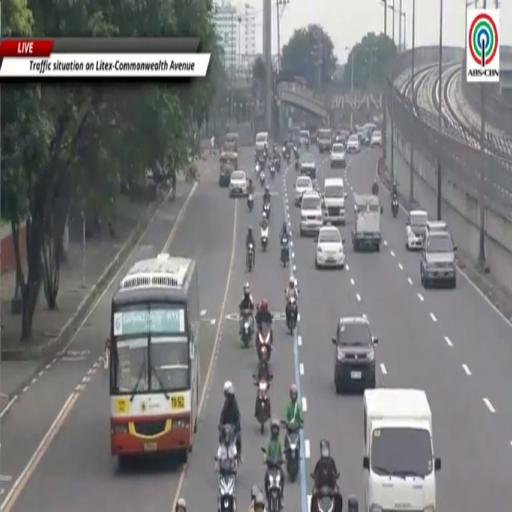bus: (109, 253, 200, 463)
car: (332, 316, 377, 393), (420, 232, 456, 289), (315, 226, 345, 269), (300, 191, 323, 236), (405, 209, 428, 251), (295, 176, 313, 205), (229, 170, 248, 197), (300, 153, 316, 180), (330, 143, 346, 168), (317, 128, 332, 153), (426, 221, 447, 235), (255, 132, 269, 152), (346, 135, 360, 153), (299, 130, 310, 146), (370, 131, 381, 147)
jeepney: (219, 152, 237, 186), (224, 133, 238, 152)
motorcycle: (262, 447, 283, 511), (282, 421, 301, 482), (218, 459, 236, 511), (255, 380, 270, 434), (311, 487, 342, 511), (256, 323, 272, 361), (316, 487, 335, 511), (241, 310, 253, 347), (286, 296, 297, 333), (280, 238, 289, 267), (246, 244, 254, 271), (261, 227, 268, 251), (263, 199, 270, 219), (391, 197, 398, 217), (274, 156, 281, 173), (247, 194, 253, 212), (259, 170, 265, 186), (270, 164, 275, 180), (372, 184, 378, 196), (294, 148, 299, 161), (285, 153, 290, 165), (255, 163, 260, 174), (295, 160, 299, 171), (306, 140, 309, 150)
truck: (363, 389, 440, 511), (352, 195, 381, 251), (322, 178, 347, 225)
